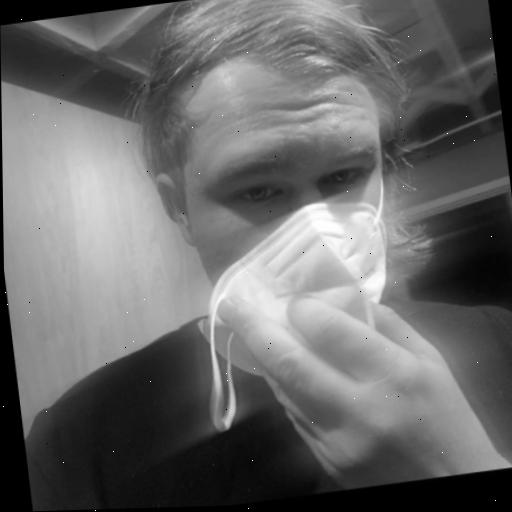mask: (110, 0, 464, 430)
